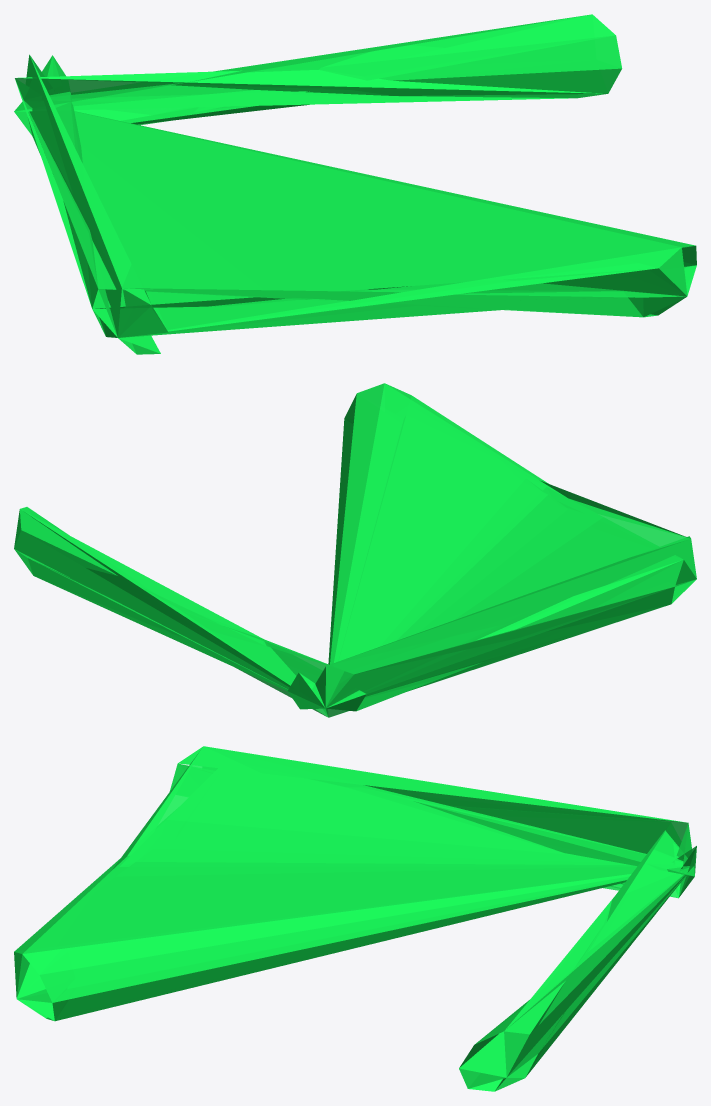
The model's file is S.S._Dolphin_Chronos_Reactor_lights.obj.
3 views of the same model, one above another, from view 1: azimuth 30°, elevation 25°; view 2: azimuth 150°, elevation 25°; view 3: azimuth 270°, elevation 25° (orthographic). The views are drawn at different scales.
Visible parts, largest first — view 1: S.S._Dolphin_Chronos_Reactor_lights; view 2: S.S._Dolphin_Chronos_Reactor_lights; view 3: S.S._Dolphin_Chronos_Reactor_lights.
Boxes of the visible parts, x1,y1,x2,y2 form: S.S._Dolphin_Chronos_Reactor_lights: [14, 14, 696, 354]; S.S._Dolphin_Chronos_Reactor_lights: [14, 383, 696, 717]; S.S._Dolphin_Chronos_Reactor_lights: [14, 746, 696, 1091].
Bounding box in the file's own units: 3.93 × 0.4363 × 3.89.
